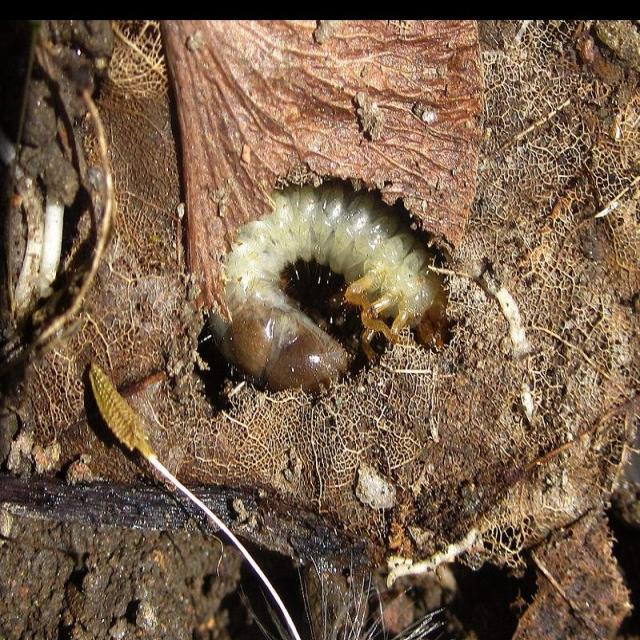grub: (209, 187, 455, 400)
